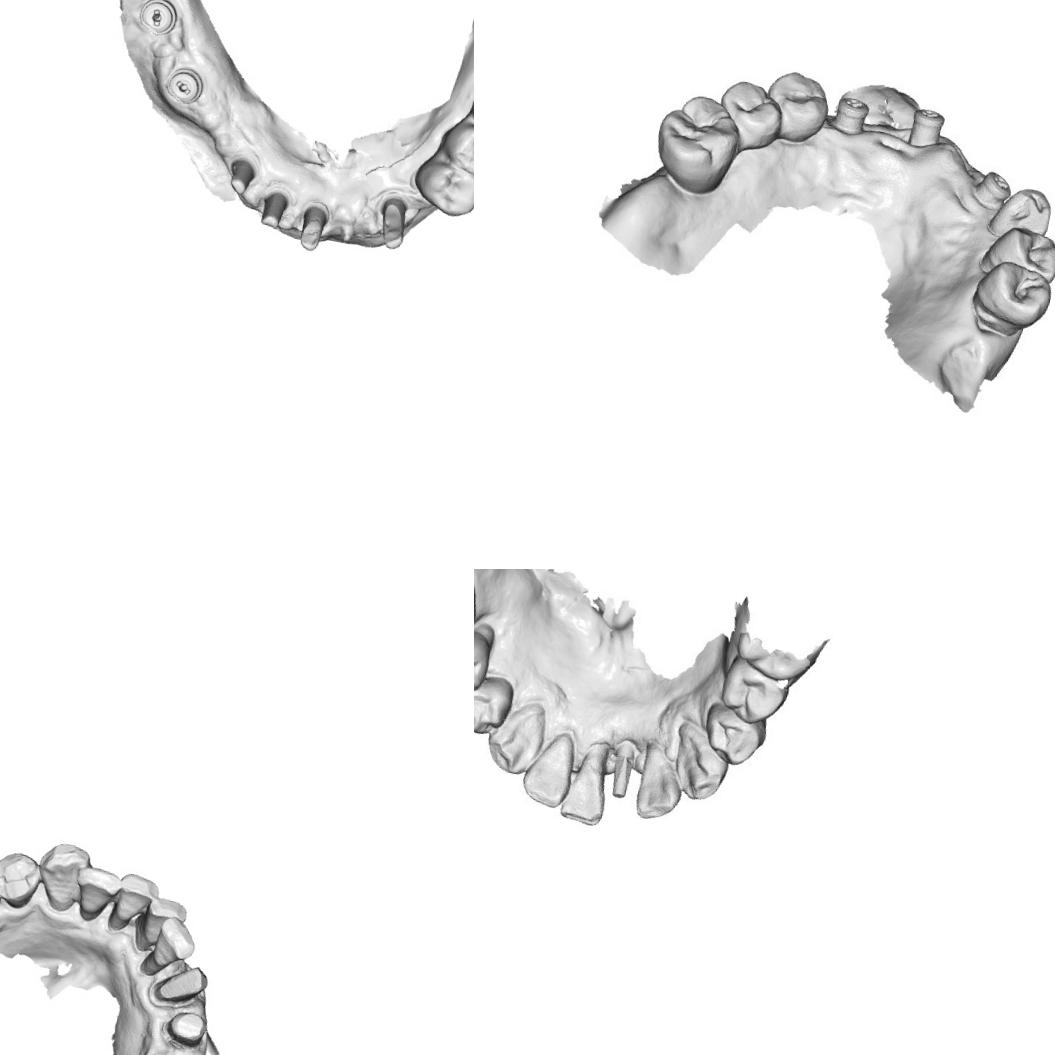abutment: (603, 730, 644, 800), (369, 189, 413, 252), (292, 196, 332, 256), (255, 182, 294, 232), (224, 152, 260, 198)
canine: (29, 837, 94, 916), (989, 182, 1055, 245)
crown: (146, 956, 212, 1013), (158, 1005, 210, 1052)
implant_minus: (160, 63, 206, 108), (134, 0, 180, 39)
implant_plus: (968, 164, 1014, 214), (904, 100, 948, 150), (828, 90, 872, 136)
incisor: (669, 723, 735, 803), (136, 911, 201, 983), (103, 870, 162, 940), (632, 744, 684, 822), (491, 706, 547, 777), (564, 750, 614, 826), (523, 736, 575, 808), (66, 862, 122, 926), (132, 892, 188, 956)
molar: (646, 86, 745, 198)
premolar: (966, 256, 1055, 330), (756, 66, 832, 148), (714, 74, 784, 148), (980, 219, 1055, 287), (406, 152, 474, 221), (720, 660, 788, 726), (706, 710, 767, 767), (0, 846, 44, 912), (434, 114, 474, 182), (474, 675, 511, 735), (474, 628, 489, 696)
